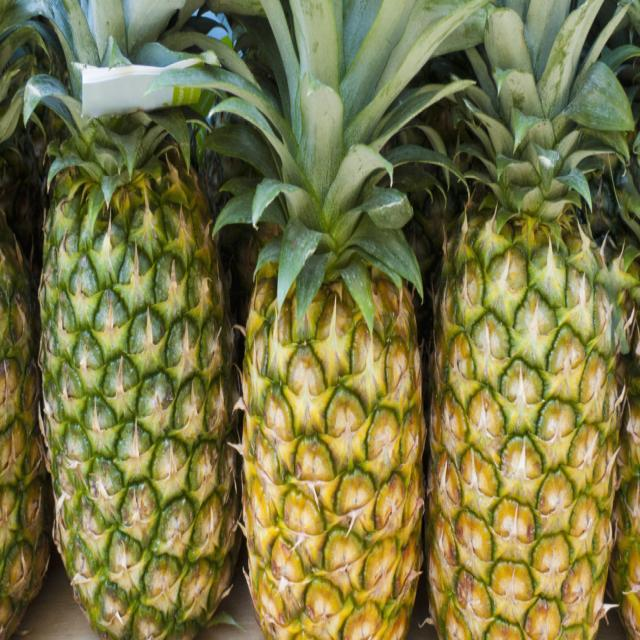pineapple: (32, 62, 238, 628), (427, 113, 620, 640), (233, 120, 423, 640)
